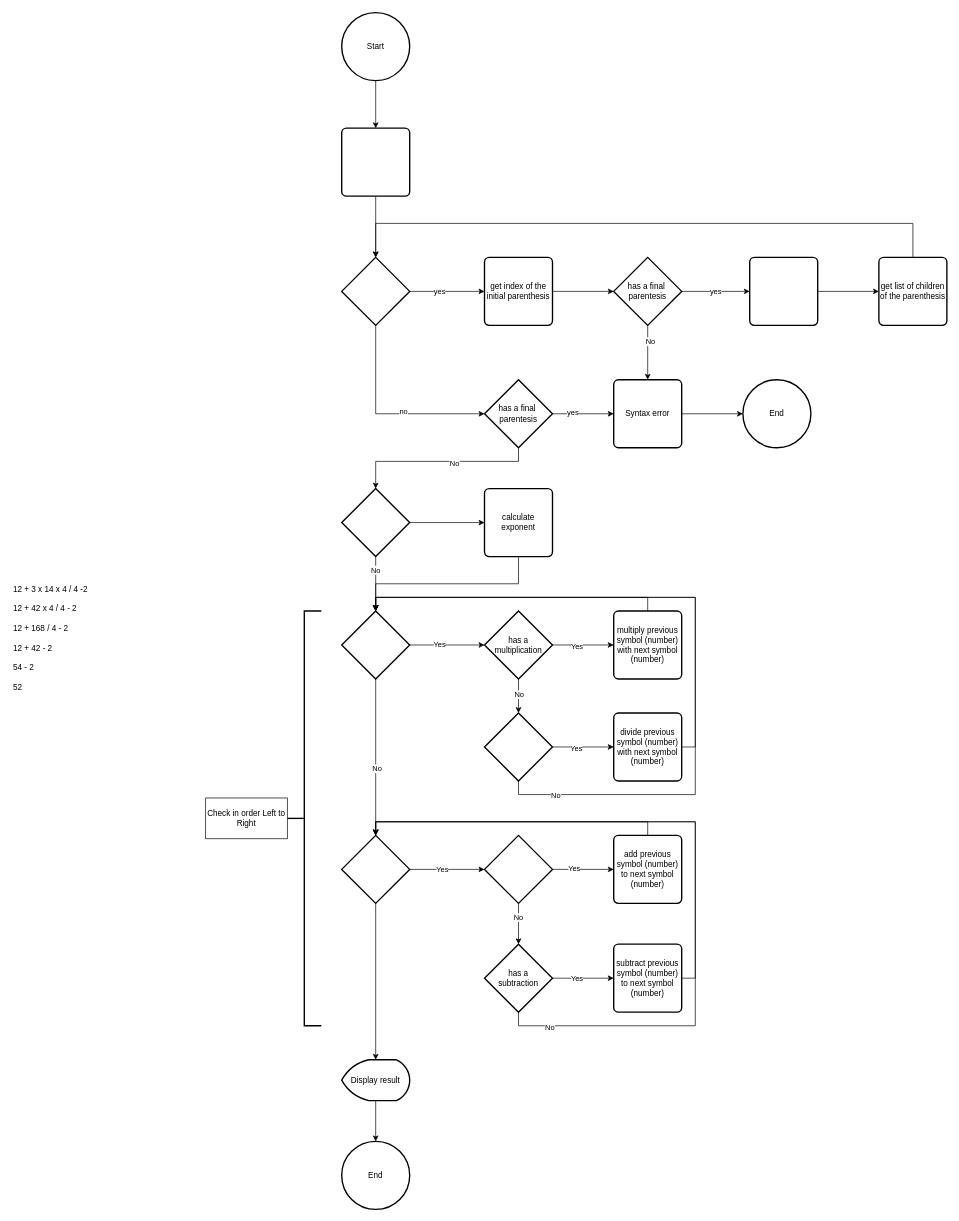
Image size: 959x1221. Some labels were removed from this diagram. The centre of each missing label's shape, as x and y in pixels:
"get index of the final parenthesis" belongs at (x=783, y=291).
"Get list of symbols" belongs at (x=375, y=162).
"has a addition" belongs at (x=518, y=869).
"has a addition or subtraction" belongs at (x=375, y=869).
"has a division" belongs at (x=518, y=746).
"has a exponent" belongs at (x=375, y=522).
"has a initial parentesis" belongs at (x=375, y=291).
"has a multiplication or division" belongs at (x=375, y=644).
